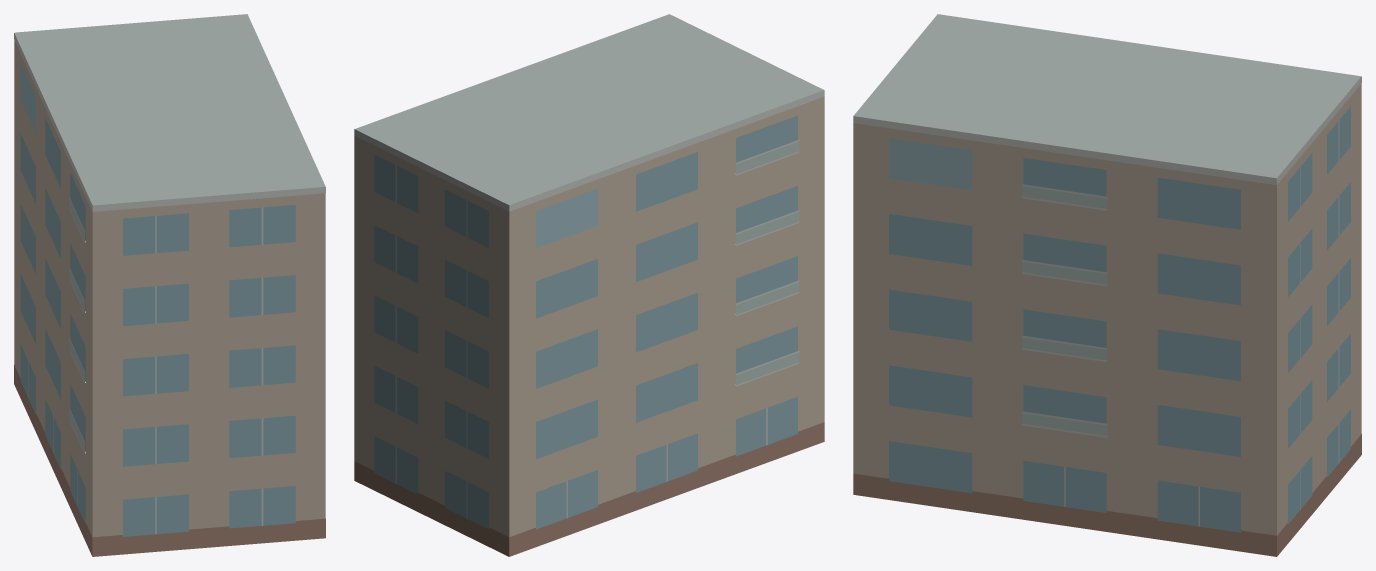
The model's file is survey-upis-32989807.glb.
The picture shows the model from 3 angles, left to right: view 1: azimuth 30°, elevation 25°; view 2: azimuth 150°, elevation 25°; view 3: azimuth 270°, elevation 25°; orthographic projection. The views are drawn at different scales.
Parts seen in each view (by area): view 1: survey-upis-32989807.tmp; view 2: survey-upis-32989807.tmp; view 3: survey-upis-32989807.tmp.
Boxes of the visible parts, x1,y1,x2,y2 form: survey-upis-32989807.tmp: (14, 14, 325, 556); survey-upis-32989807.tmp: (354, 14, 824, 556); survey-upis-32989807.tmp: (853, 14, 1361, 556).
Size of the model in its own units: 12.38 by 13.3 by 16.2.
